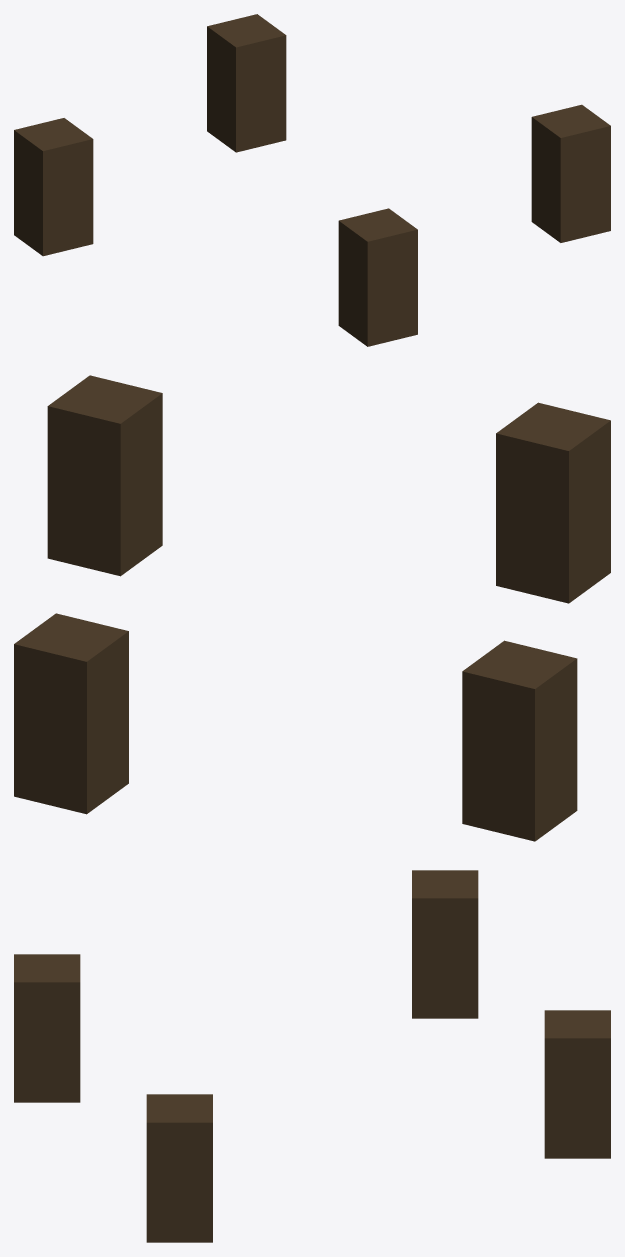
The model's file is flowers_3_winter.glb.
3 views of the same model, one above another, from view 1: azimuth 30°, elevation 25°; view 2: azimuth 150°, elevation 25°; view 3: azimuth 270°, elevation 25° (orthographic). The views are drawn at different scales.
Parts seen in each view (by area): view 1: flowers_3_winter; view 2: flowers_3_winter; view 3: flowers_3_winter.
Boxes of the visible parts, left/top/right/bottom form: flowers_3_winter: left=14, top=14, right=610, bottom=346; flowers_3_winter: left=14, top=375, right=610, bottom=841; flowers_3_winter: left=14, top=870, right=610, bottom=1242.
Bounding box in the file's own units: 1.12 × 0.25 × 1.12.
